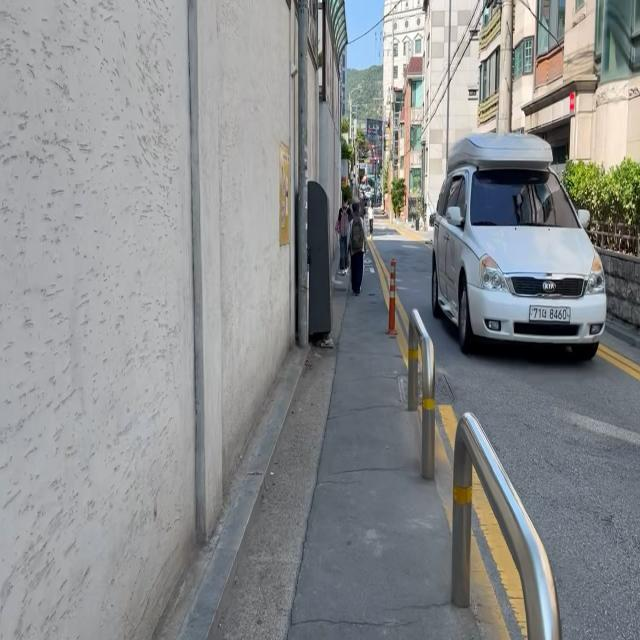building: (0, 0, 348, 638), (475, 3, 638, 142), (384, 0, 471, 156)
car: (430, 130, 606, 361)
